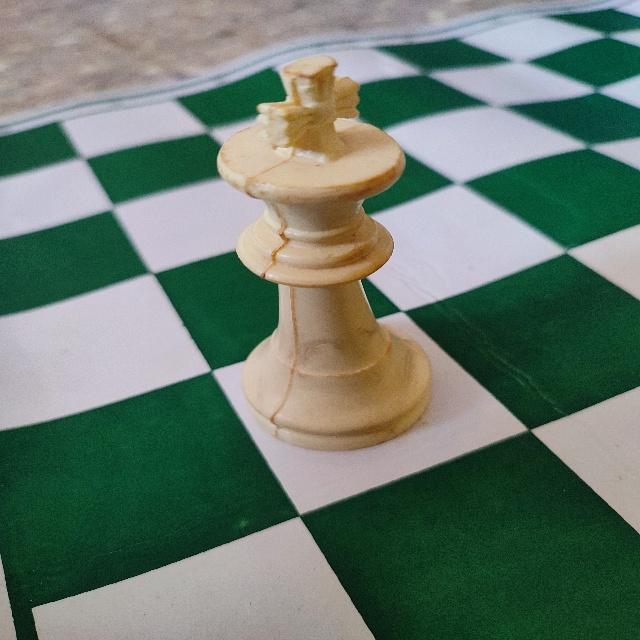King: (212, 48, 434, 456)
